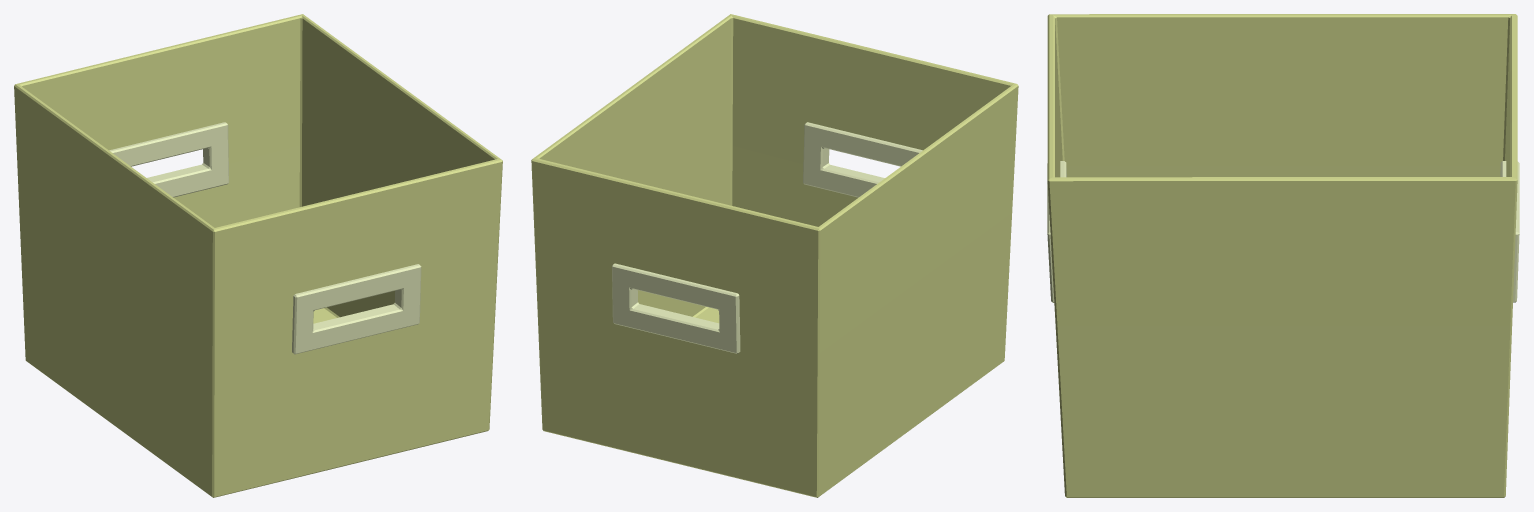
The picture shows the model from 3 angles, left to right: view 1: azimuth 30°, elevation 25°; view 2: azimuth 150°, elevation 25°; view 3: azimuth 270°, elevation 25°; orthographic projection. The views are drawn at different scales.
Parts seen in each view (by area): view 1: file_box_2; view 2: file_box_2; view 3: file_box_2.
Boxes of the visible parts, box(x1,y1,x2,y2) form: file_box_2: box(14, 14, 502, 497); file_box_2: box(531, 14, 1018, 497); file_box_2: box(1047, 14, 1519, 497).
Size of the model in its own units: 0.2857 by 0.2593 by 0.3433.
